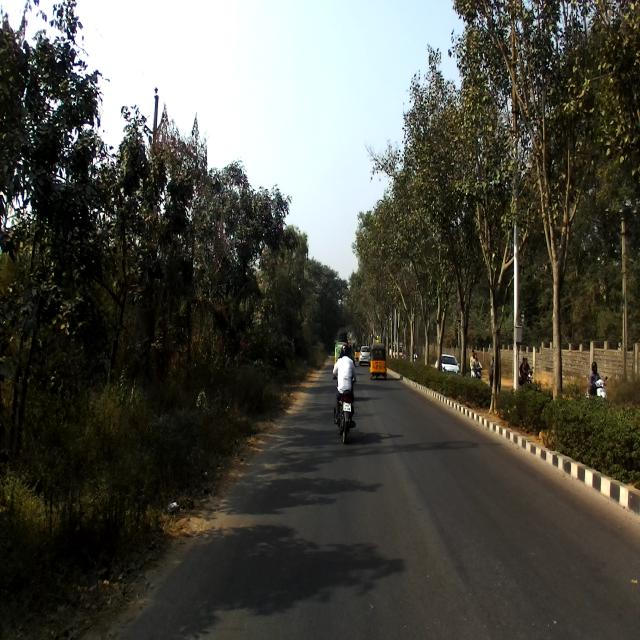motorcycle ahead at: (329, 391, 360, 448)
